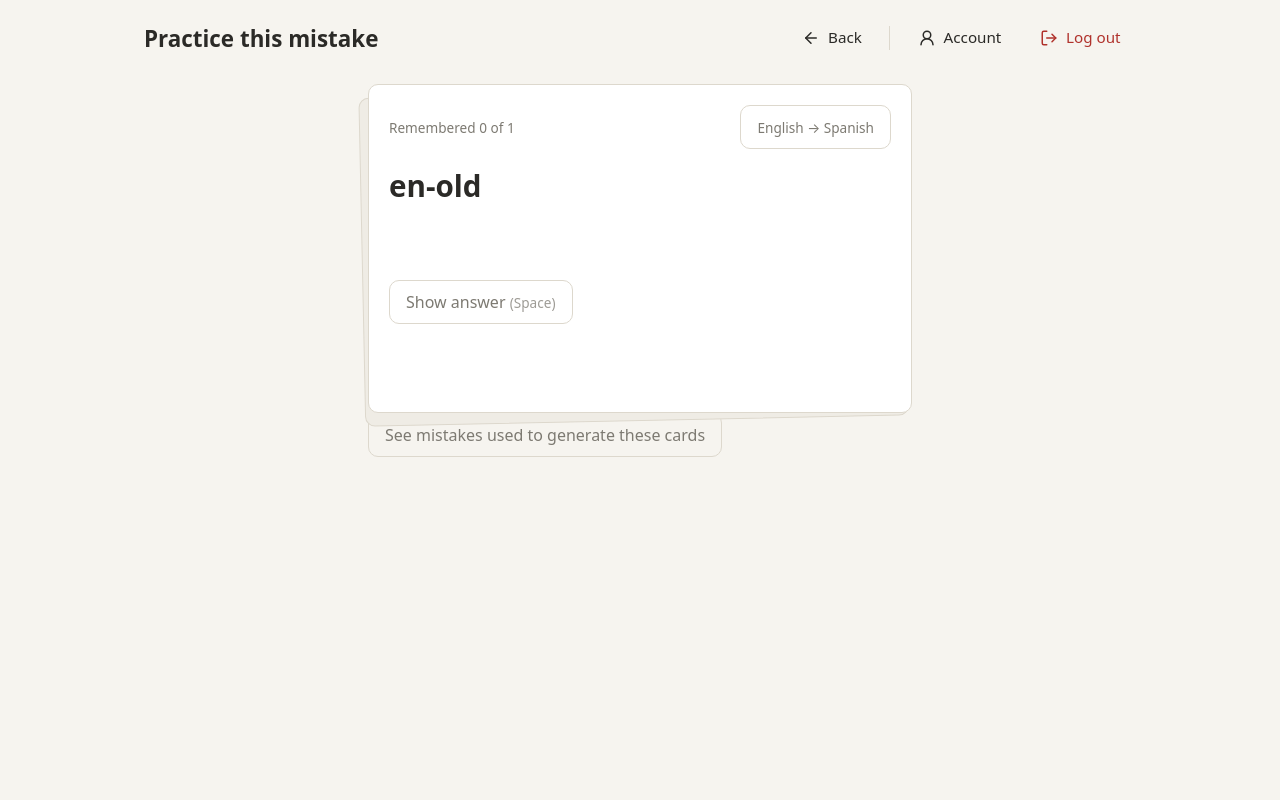
Scenario: PracticeMistakePage › restarts the session with fresh cards after regenerating from the source modal
The width and height of the screenshot is (1280, 800).
Expected: the text "en-old" is shown, 389,165 -> 482,206
Click the button "See mistakes used to generate these cards".
click(545, 435)  # box 368,413 -> 722,457
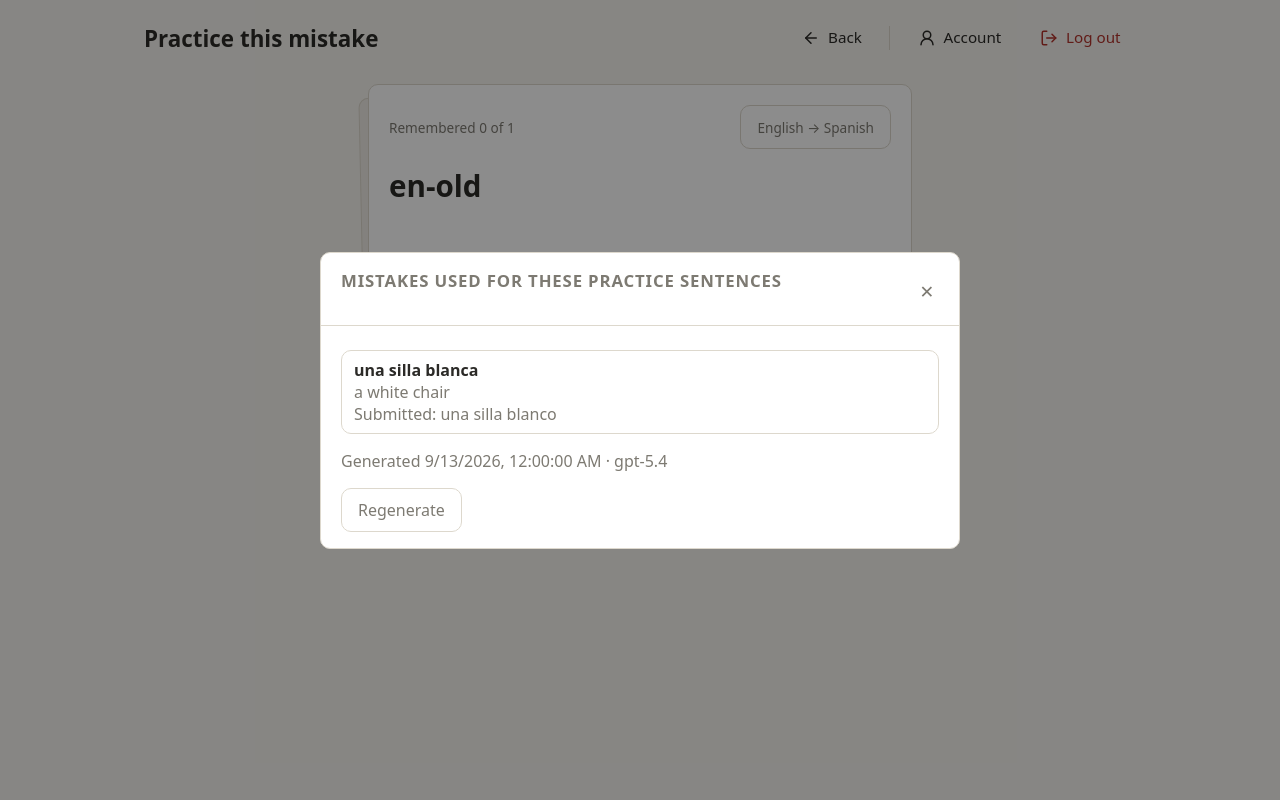
Click the button "Regenerate".
click(401, 510)  # box 341,488 -> 462,532
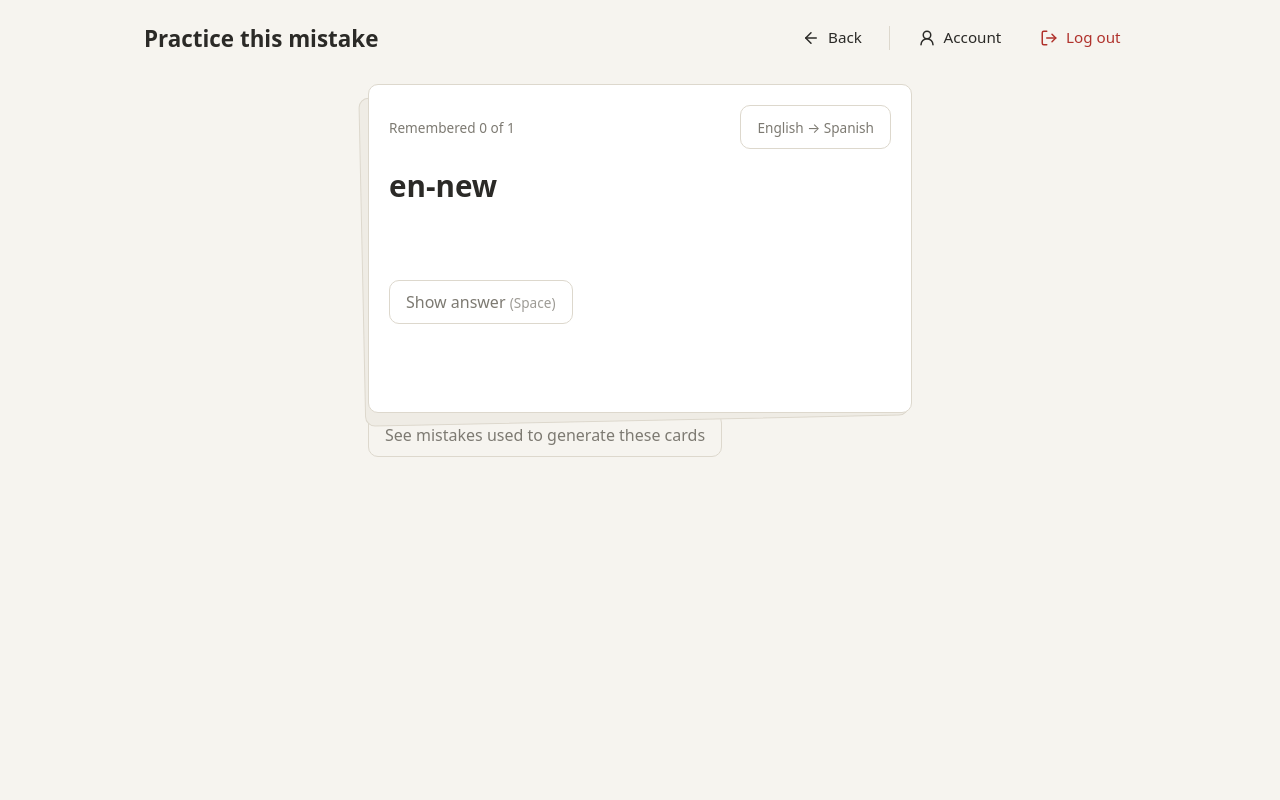
Expected: the text "en-new" is shown, 389,165 -> 497,206
Expected: the text "en-old" is gone
